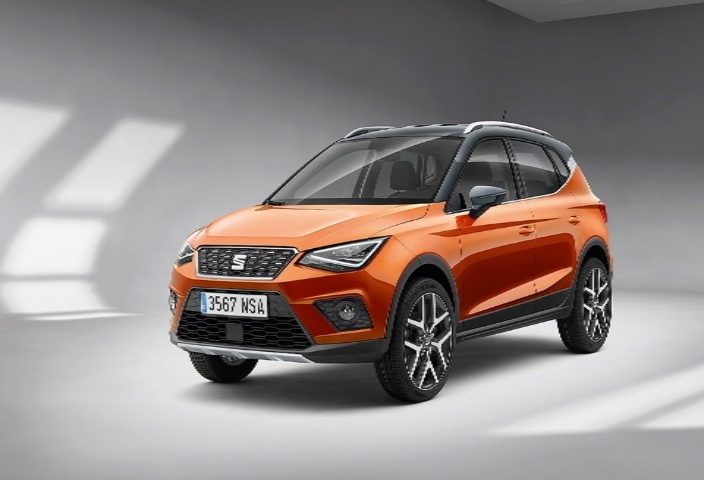camper: (145, 103, 626, 407)
